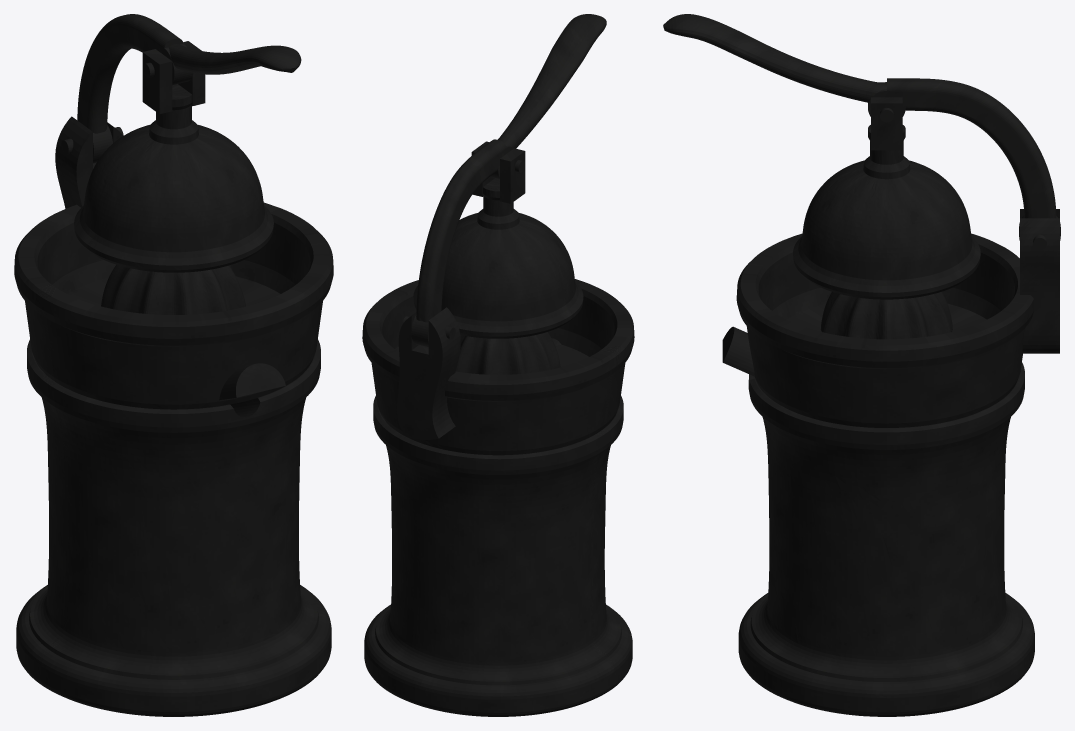
The model's file is press_rustic.glb.
3 renders of one model, left to right at view 1: azimuth 30°, elevation 25°; view 2: azimuth 150°, elevation 25°; view 3: azimuth 270°, elevation 25°, orthographic. The views are drawn at different scales.
Parts seen in each view (by area): view 1: Pedestal, LinkPin; view 2: Pedestal, LinkPin; view 3: Pedestal, LinkPin.
Part boxes in pixels (<box>): Pedestal: <box>14,41,333,716</box>; LinkPin: <box>61,14,301,163</box>; Pedestal: <box>362,141,634,716</box>; LinkPin: <box>402,14,606,347</box>; Pedestal: <box>722,82,1059,716</box>; LinkPin: <box>663,14,1060,250</box>.
Bounding box in the file's own units: 0.151 × 0.3544 × 0.2.
Materials: 2 (2 with a texture image).
